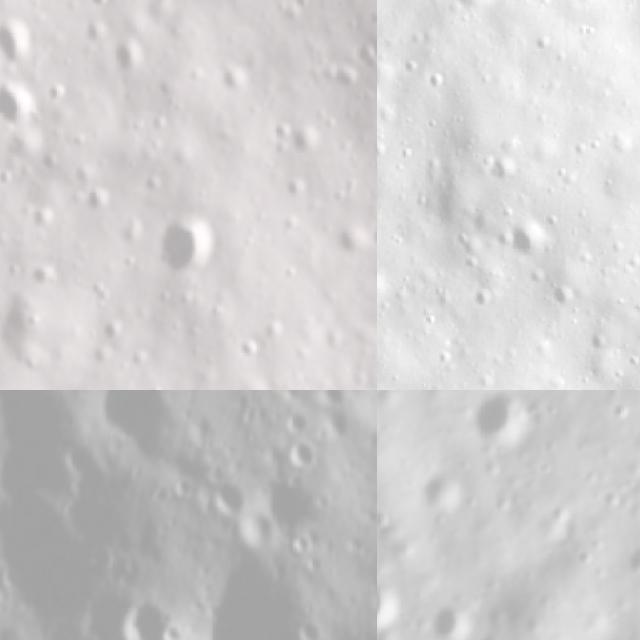crater: (178, 546, 321, 640), (78, 390, 175, 456), (154, 207, 223, 287), (0, 76, 47, 150), (116, 593, 182, 640), (475, 390, 531, 443), (206, 470, 256, 519), (0, 22, 47, 73), (508, 213, 555, 264), (285, 440, 329, 478), (332, 221, 370, 261), (282, 121, 317, 162), (481, 154, 518, 191), (436, 608, 480, 639), (432, 479, 469, 514), (377, 588, 409, 627), (377, 268, 397, 317), (283, 402, 314, 433), (314, 390, 353, 414), (549, 286, 577, 312), (377, 503, 399, 534), (443, 0, 499, 11)
